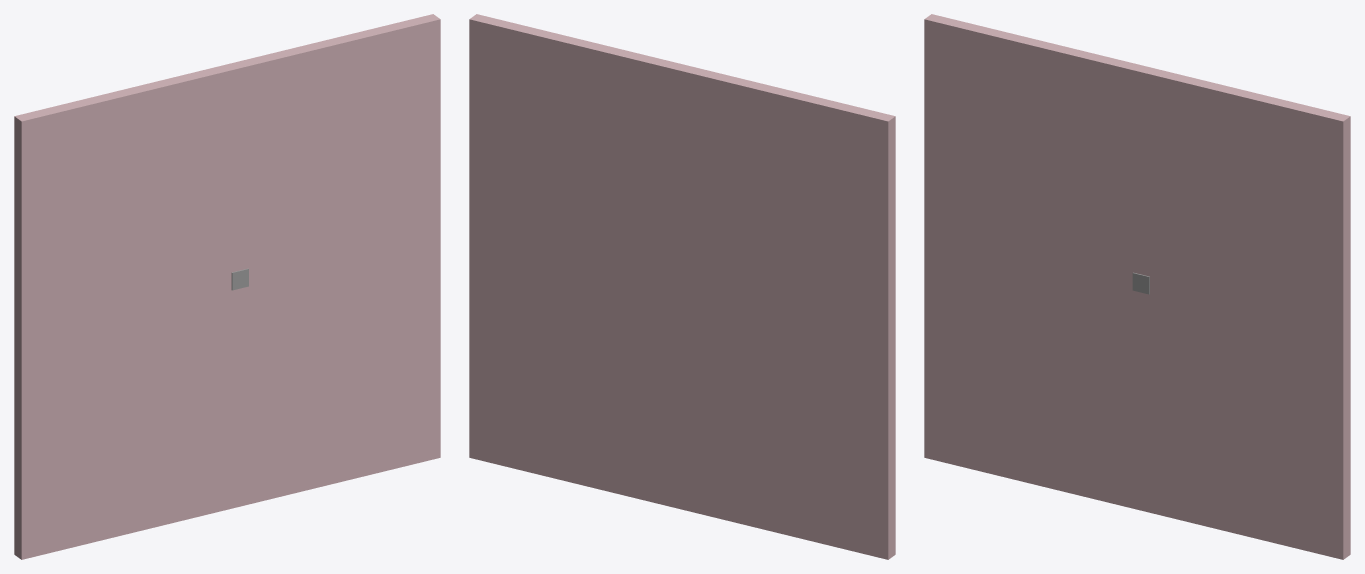
File: board.glb
3 views of the same model, side by side, from view 1: azimuth 30°, elevation 25°; view 2: azimuth 150°, elevation 25°; view 3: azimuth 330°, elevation 25° (orthographic).
Parts seen in each view (by area): view 1: Substrate_Layer_0; view 2: Substrate_Layer_0; view 3: Substrate_Layer_0.
Boxes of the visible parts, x1=… form: Substrate_Layer_0: x1=14, y1=14, x2=440, y2=559; Substrate_Layer_0: x1=469, y1=14, x2=895, y2=559; Substrate_Layer_0: x1=924, y1=14, x2=1350, y2=559.
Size of the model in its own units: 0.1 by 0.1 by 0.0035.
